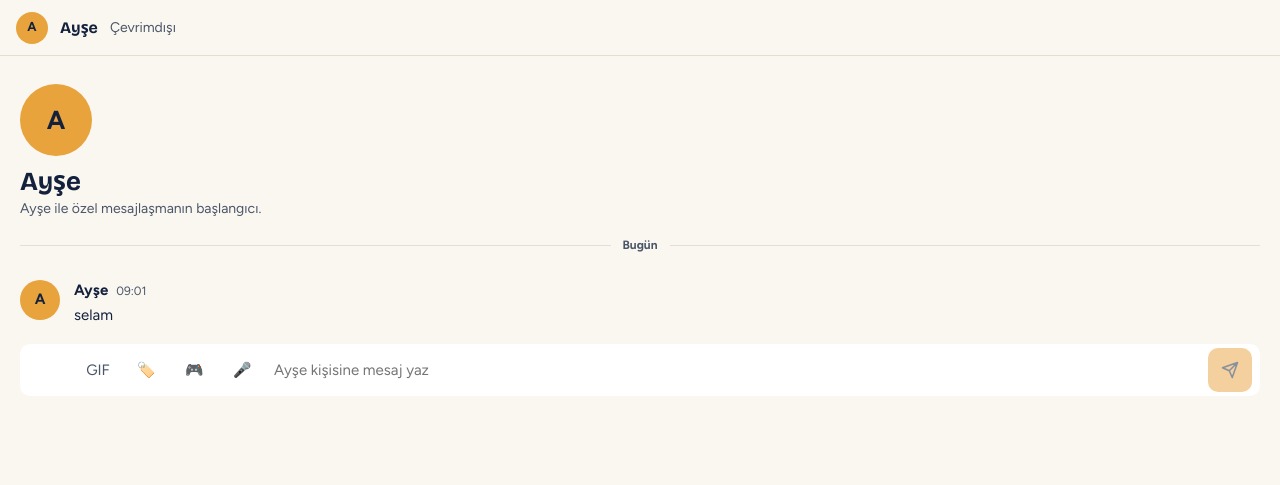
Test: DmSohbet › mesajları gösterir, yazılanı gönderir ve kendi mesajında düzenle düğmesi vardır
This screenshot has width=1280, height=485.
Expected: the text "selam" is shown, [74, 306, 113, 324]
Type "  merhaba  " into the text box labelled "mesaj yaz" at (736, 370), box [268, 348, 1204, 393]
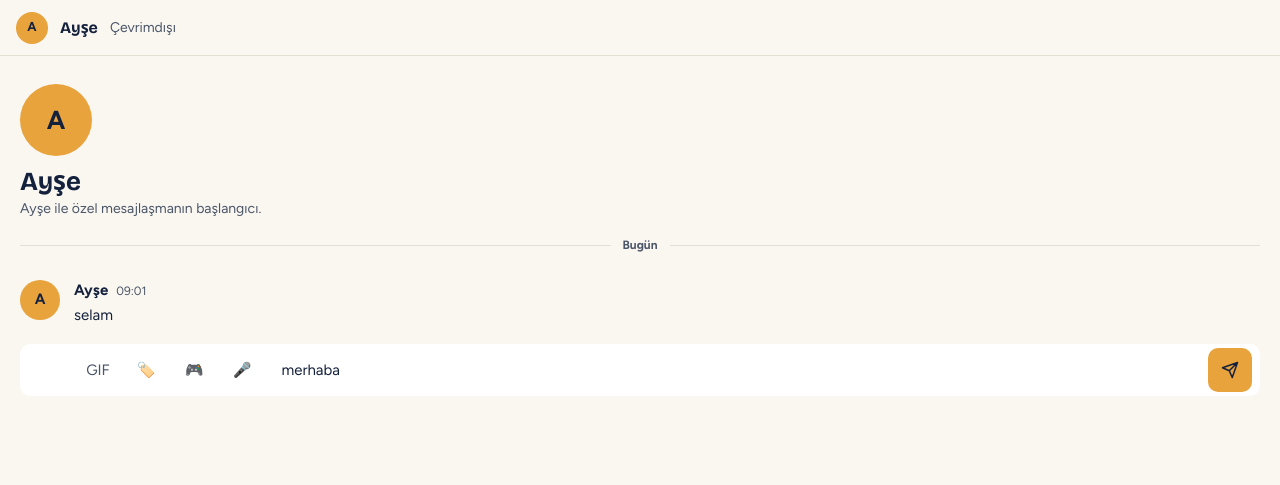
Press Enter in the text box named "mesaj yaz", box [268, 348, 1204, 393]
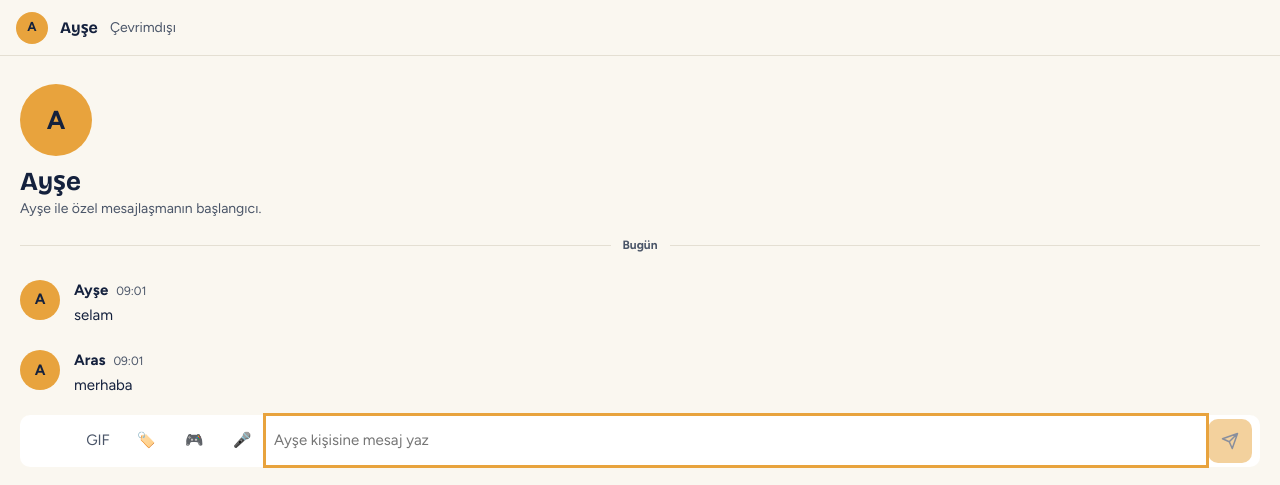
Expected: the text "merhaba" is shown, [74, 376, 132, 394]
